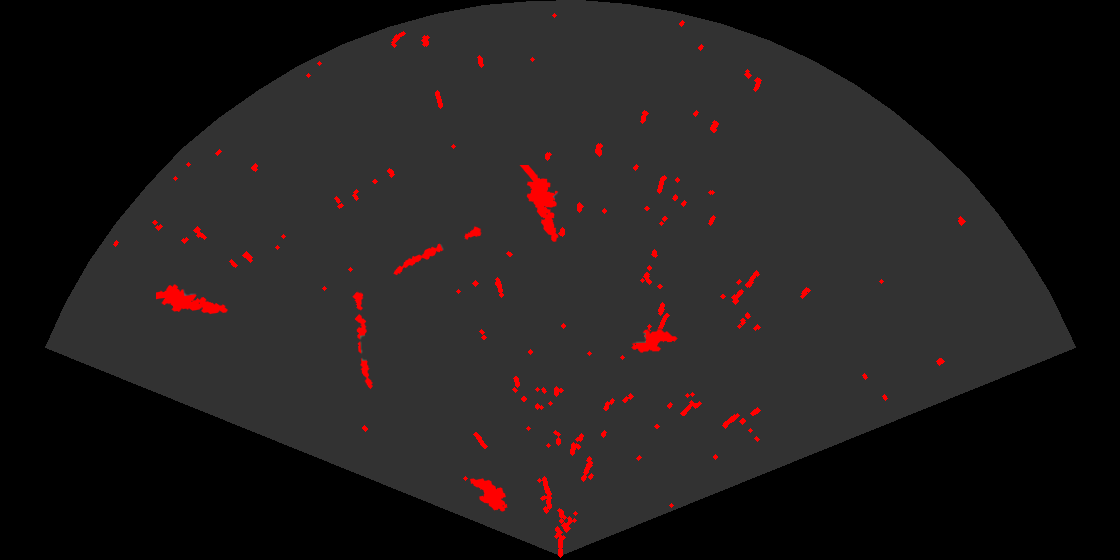AUV: (468, 477, 509, 513), (630, 328, 679, 354)
chain: (392, 225, 483, 277), (351, 289, 374, 391)
frogman: (518, 165, 560, 244), (156, 283, 230, 316)
